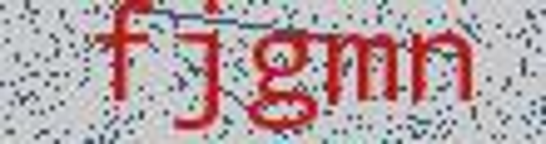f: (92, 1, 160, 111)
g: (239, 18, 321, 132)
j: (168, 1, 231, 139)
m: (324, 22, 400, 114)
n: (406, 18, 480, 113)
